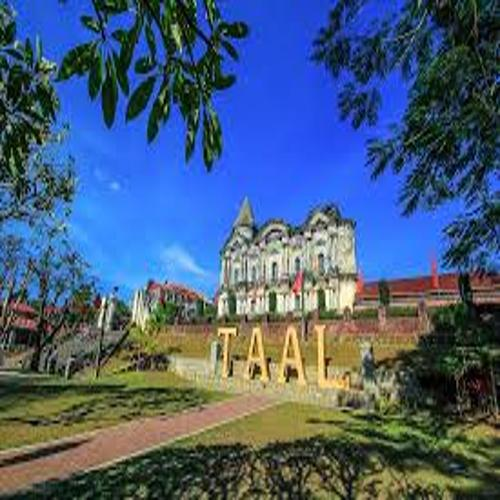Taal Basilica Church: (206, 185, 362, 327)
